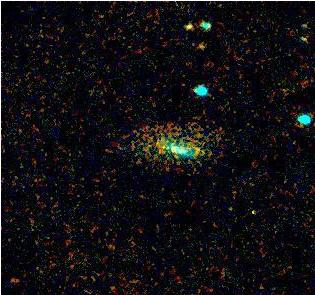star: (185, 31, 215, 61)
